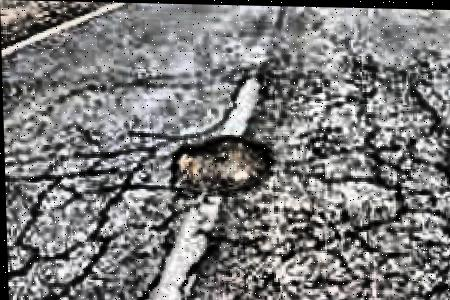pothole: (165, 131, 276, 201)
